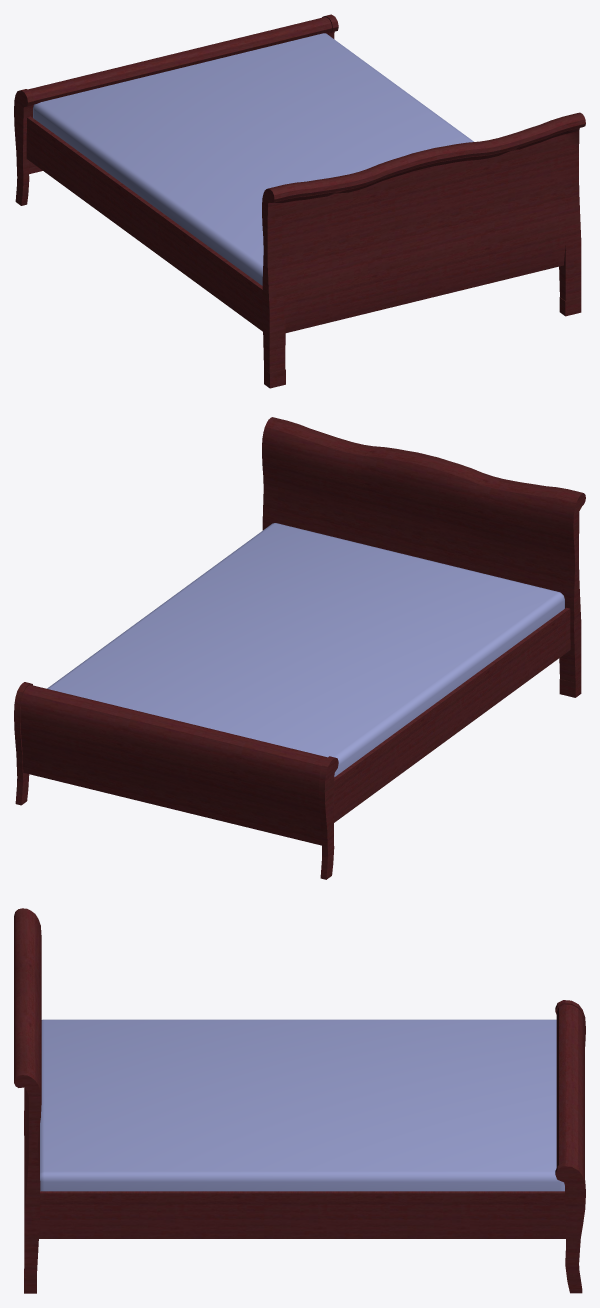
File: bed2.obj
3 renders of one model, top to bottom at view 1: azimuth 30°, elevation 25°; view 2: azimuth 150°, elevation 25°; view 3: azimuth 270°, elevation 25°, orthographic. The views are drawn at different scales.
Parts seen in each view (by area): view 1: bed, mattress; view 2: bed, mattress; view 3: mattress, bed.
Part boxes in pixels (x1,y1,x2,y2): bed: (14, 14, 585, 388); mattress: (33, 33, 473, 285); bed: (14, 417, 585, 879); mattress: (47, 523, 564, 776); mattress: (40, 1019, 564, 1191); bed: (14, 908, 585, 1293).
Bounding box in the file's own units: 155 × 94.97 × 225.
Materials: 2 (1 with a texture image).
